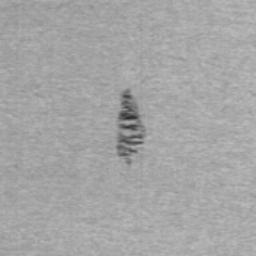Secondary rust skin: (116, 89, 145, 165)
